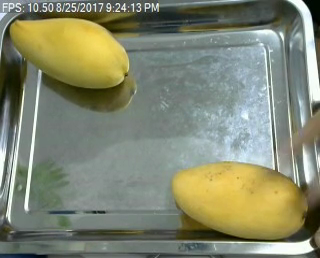Mango: (171, 155, 308, 238), (6, 13, 129, 91)
